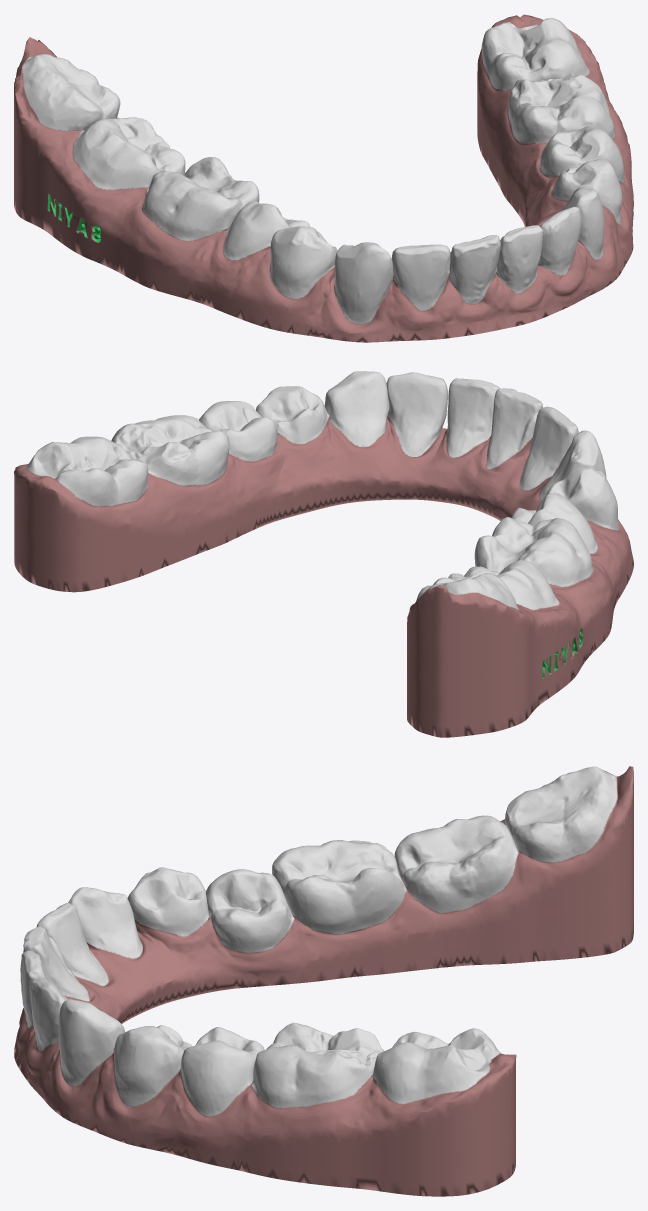
File: Niya Priority Lower jaw - 08 - Model.glb
3 views of the same model, one above another, from view 1: azimuth 30°, elevation 25°; view 2: azimuth 150°, elevation 25°; view 3: azimuth 270°, elevation 25° (orthographic). The views are drawn at different scales.
Visible parts, largest first — view 1: Niya Priority Lower jaw - 08 - Model; view 2: Niya Priority Lower jaw - 08 - Model; view 3: Niya Priority Lower jaw - 08 - Model.
Part boxes in pixels (left/top/right/bottom): Niya Priority Lower jaw - 08 - Model: left=14, top=14, right=633, bottom=342; Niya Priority Lower jaw - 08 - Model: left=14, top=371, right=633, bottom=737; Niya Priority Lower jaw - 08 - Model: left=14, top=766, right=633, bottom=1196.
Bounding box in the file's own units: 62.72 × 16.53 × 56.55.
